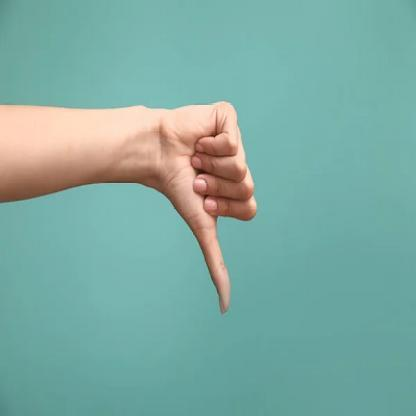thumb_down: (166, 99, 258, 318)
